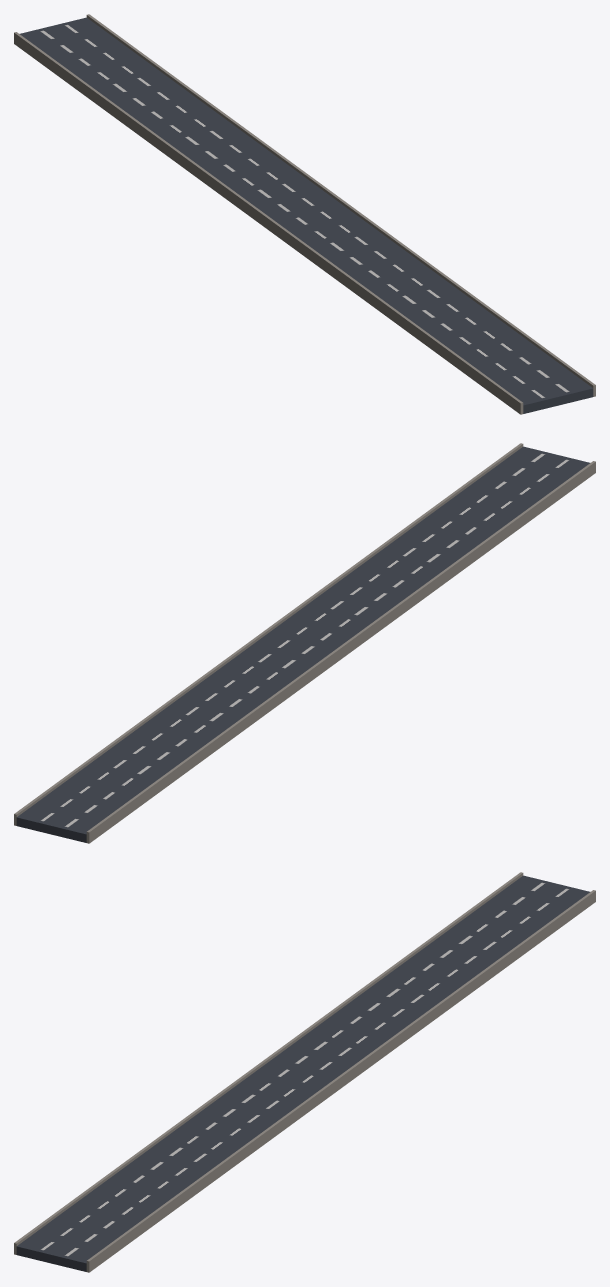
Rendered from road_3line.fbx.
3 views of the same model, one above another, from view 1: azimuth 30°, elevation 25°; view 2: azimuth 150°, elevation 25°; view 3: azimuth 330°, elevation 25° (orthographic).
Parts seen in each view (by area): view 1: Road_011, Road_007, Road_5, Road_006, Road_008, Road_009, Road_010; view 2: Road_5, Road_009, Road_011, Road_007, Road_008, Road_006, Road_010; view 3: Road_011, Road_007, Road_5, Road_006, Road_008, Road_009, Road_010.
Boxes of the visible parts, x1,y1,x2,y2 form: Road_011: [448, 332, 595, 414]; Road_007: [158, 120, 305, 202]; Road_5: [14, 14, 161, 96]; Road_006: [86, 67, 233, 149]; Road_008: [231, 173, 378, 255]; Road_009: [303, 226, 450, 308]; Road_010: [376, 279, 522, 361]; Road_5: [14, 761, 161, 843]; Road_009: [304, 549, 451, 631]; Road_011: [448, 443, 595, 525]; Road_007: [159, 655, 306, 737]; Road_008: [231, 602, 378, 684]; Road_006: [87, 708, 233, 790]; Road_010: [376, 496, 523, 578]; Road_011: [14, 1190, 161, 1272]; Road_007: [304, 978, 451, 1060]; Road_5: [448, 872, 595, 954]; Road_006: [376, 925, 523, 1007]; Road_008: [231, 1031, 378, 1113]; Road_009: [159, 1084, 306, 1166]; Road_010: [87, 1137, 233, 1219].
Size of the model in its own units: 300 by 43.24 by 3497.
1 material, 1 textured.
